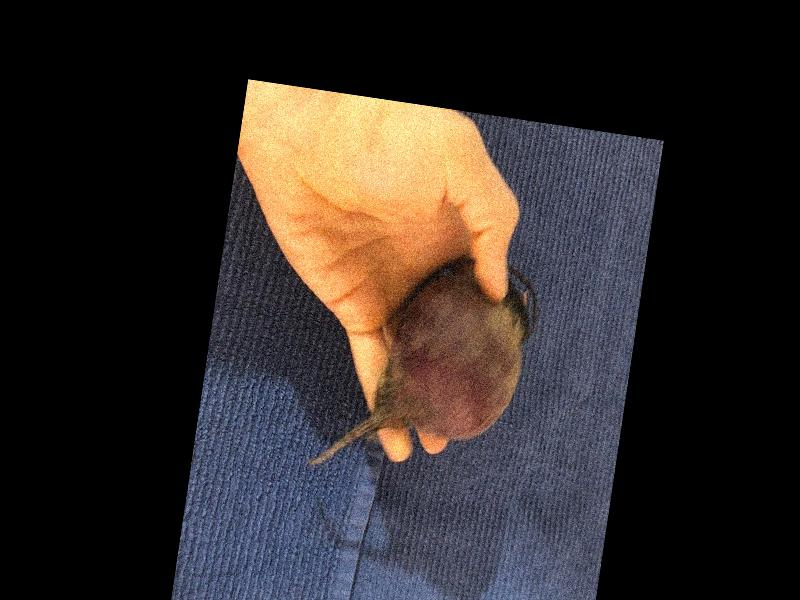Beet: (306, 240, 543, 496)
